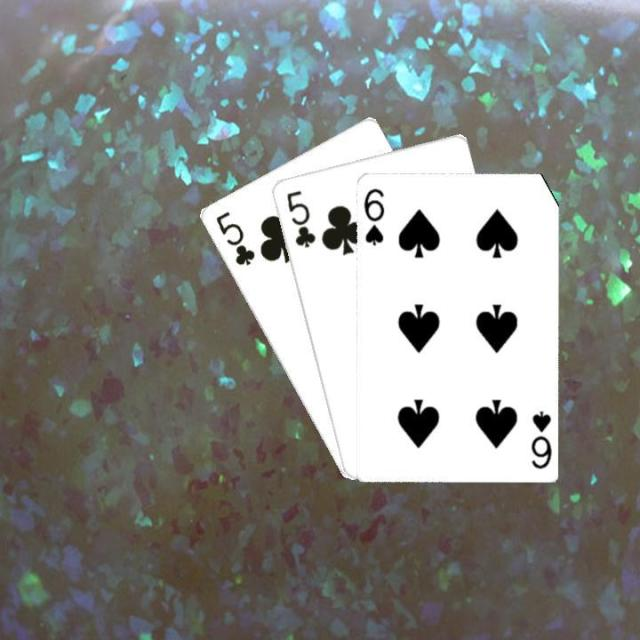5C: (211, 207, 257, 268), (282, 186, 317, 249)
6S: (359, 184, 385, 247), (526, 407, 552, 470)
